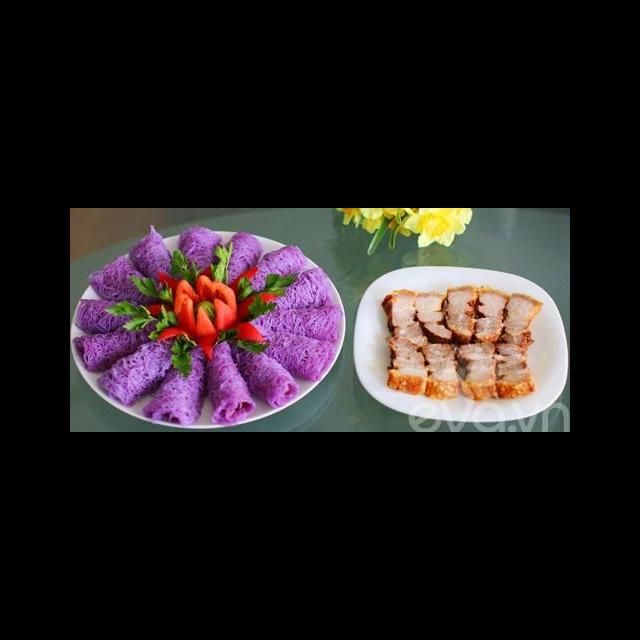banh hoi: (94, 328, 185, 410), (138, 339, 212, 430), (242, 320, 338, 384), (222, 336, 302, 412), (199, 337, 259, 429), (71, 321, 173, 375), (124, 221, 191, 298), (85, 252, 171, 311), (254, 265, 335, 318), (241, 239, 311, 300), (247, 305, 346, 348), (167, 221, 224, 292), (206, 231, 266, 293), (73, 293, 160, 332)
banh hoi heo quay: (80, 221, 555, 429), (74, 229, 548, 432)
thit heo quay: (375, 279, 547, 351), (378, 331, 539, 405)
